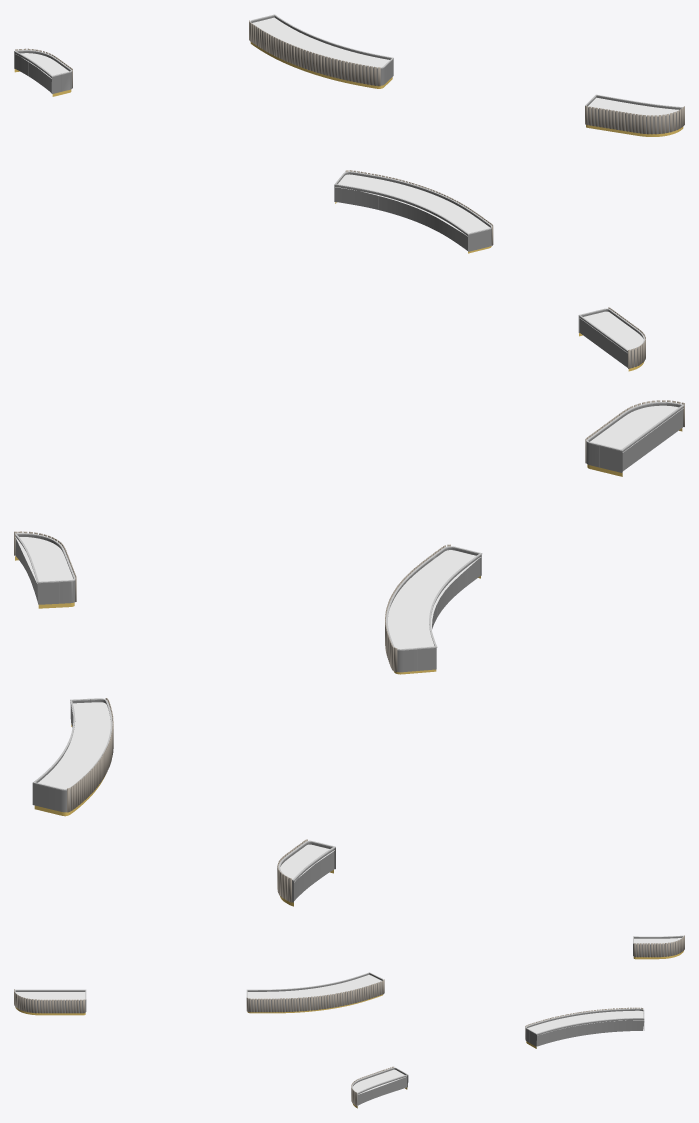
3 views of the same model, one above another, from view 1: azimuth 30°, elevation 25°; view 2: azimuth 150°, elevation 25°; view 3: azimuth 270°, elevation 25° (orthographic). The views are drawn at different scales.
Visible parts, largest first — view 1: SM_H_Building_FutureTech_Dock_06a_InterWall_02b; view 2: SM_H_Building_FutureTech_Dock_06a_InterWall_02b; view 3: SM_H_Building_FutureTech_Dock_06a_InterWall_02b.
Boxes of the visible parts, bbox=[...] form: SM_H_Building_FutureTech_Dock_06a_InterWall_02b: bbox=[14, 14, 684, 371]; SM_H_Building_FutureTech_Dock_06a_InterWall_02b: bbox=[14, 400, 684, 906]; SM_H_Building_FutureTech_Dock_06a_InterWall_02b: bbox=[14, 935, 684, 1108].
Bounding box in the file's own units: 809 × 451 × 21.37.
